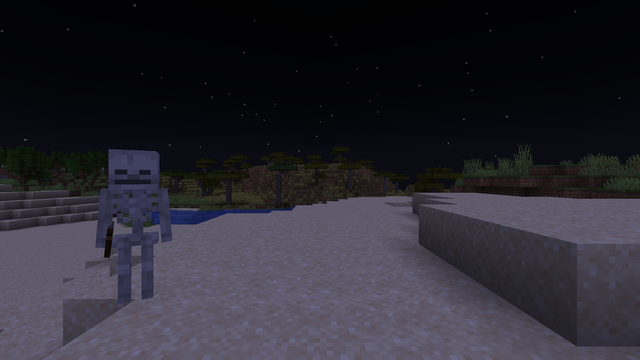squelettes: (95, 150, 171, 309)
